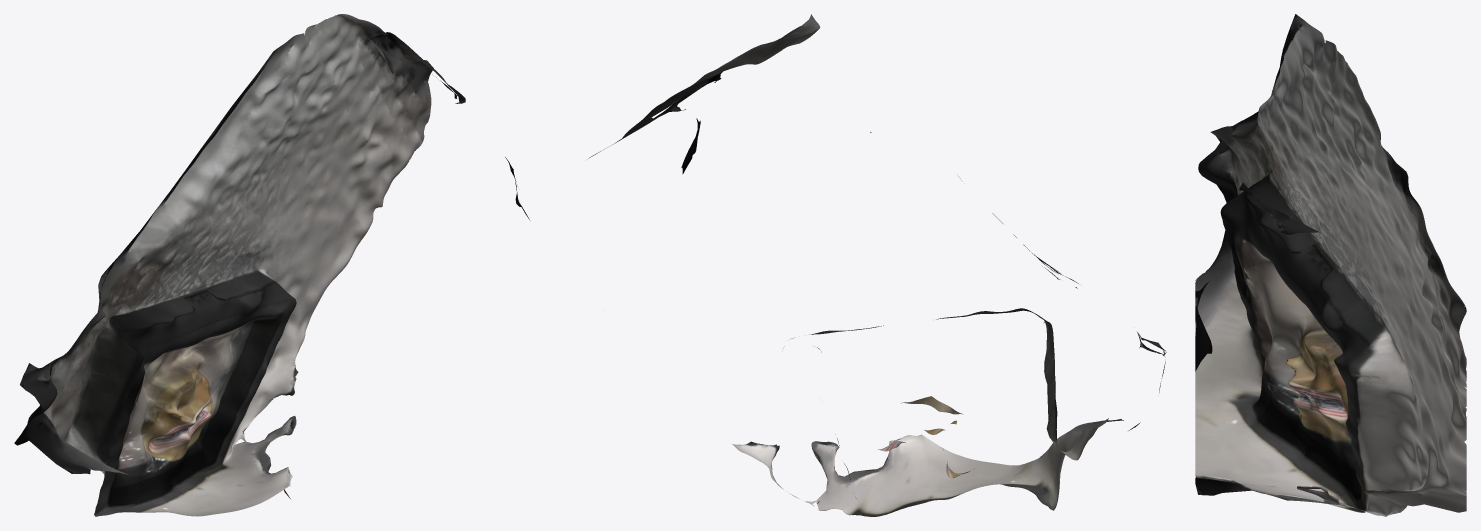
3 renders of one model, left to right at view 1: azimuth 30°, elevation 25°; view 2: azimuth 150°, elevation 25°; view 3: azimuth 270°, elevation 25°, orthographic. The views are drawn at different scales.
Size of the model in its own units: 0.8162 by 0.6542 by 0.3145.
1 material, 1 textured.
